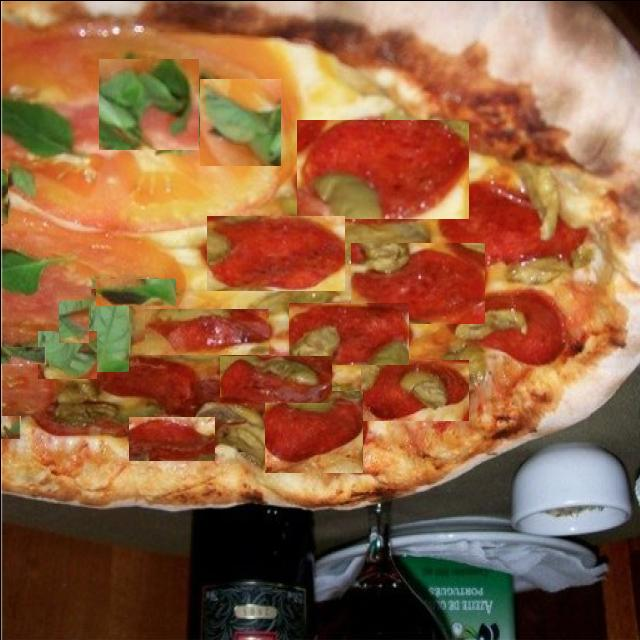basil: (98, 56, 198, 148), (199, 78, 280, 165), (0, 94, 82, 160), (90, 288, 128, 371), (37, 330, 96, 378), (91, 274, 176, 304), (0, 254, 62, 293), (95, 278, 175, 305), (58, 299, 88, 342), (7, 163, 35, 196), (0, 344, 45, 362), (0, 415, 20, 438), (0, 166, 7, 222)
pepperoni: (296, 119, 468, 218), (438, 182, 588, 266), (350, 240, 484, 322), (205, 215, 344, 290), (448, 292, 562, 368), (264, 390, 362, 472), (288, 302, 408, 364), (360, 359, 468, 420), (88, 358, 200, 410), (144, 308, 268, 354), (219, 355, 331, 402), (128, 416, 214, 460), (24, 404, 112, 439)
pizza: (0, 0, 640, 510)
